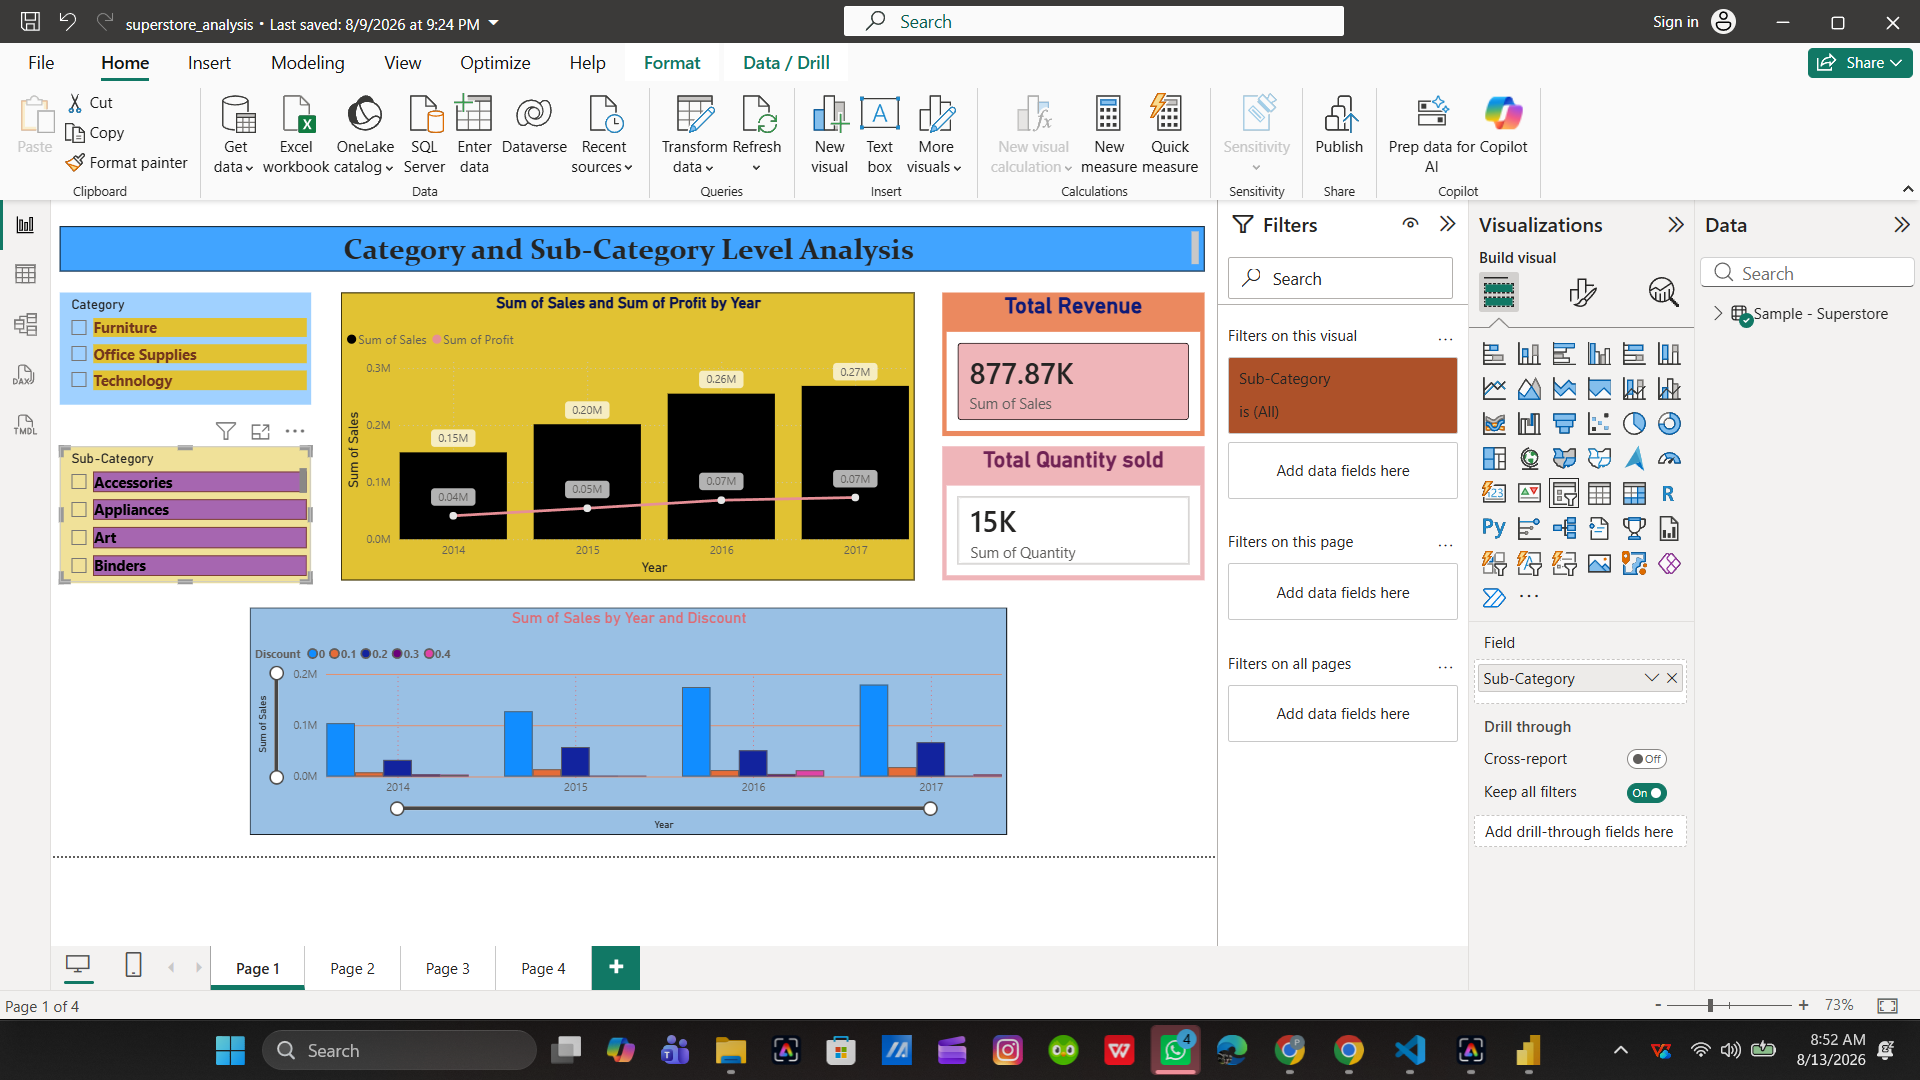

Layout of this report page (visuals, bound fields, positions):
{"tool":"powerbi","page":{"name":"Page 1","canvas":[1280,720],"ordinal":0},"visuals":[{"type":"textbox","box":[9.6,28.8,1257,49.4],"z":0},{"type":"slicer","fields":{"Values":["Sample - Superstore.Category"]},"box":[9.6,101.5,275.8,123.5],"z":1000},{"type":"slicer","fields":{"Values":["Sample - Superstore.Sub-Category"]},"box":[9.6,270.3,276,150],"z":2000},{"type":"cardVisual","title":"Total Revenue","fields":{"Data":["Sum(Sample - Superstore.Sales)"]},"box":[978.4,101.5,288.2,157.8],"z":4000},{"type":"cardVisual","title":"Total Quantity sold","fields":{"Data":["Sum(Sample - Superstore.Quantity)"]},"box":[978.4,270.3,288.2,146.8],"z":5000},{"type":"lineStackedColumnComboChart","fields":{"Y":["Sum(Sample - Superstore.Sales)"],"Category":["Sample - Superstore.Order Date.Variation.Date Hierarchy.Year"],"Y2":["Sum(Sample - Superstore.Profit)"]},"box":[318.4,101.5,629.8,315.6],"z":6000},{"type":"clusteredColumnChart","fields":{"Category":["Sample - Superstore.Order Date.Variation.Date Hierarchy.Year"],"Series":["Sample - Superstore.Discount"],"Y":["Sum(Sample - Superstore.Sales)"]},"box":[218.2,447.3,831.6,249.7],"z":7000}]}

Visuals, with their boxes on the page's 1280x720 design canvas (x1, y1, x2, y2). These are canvas units, not pixel positions in the 1920x1080 screenshot, which may show the page scaled, cropped or inside an application window:
textbox: left=10, top=29, right=1267, bottom=78
slicer - Sample - Superstore.Category: left=10, top=102, right=285, bottom=225
slicer - Sample - Superstore.Sub-Category: left=10, top=270, right=286, bottom=420
"Total Revenue" cardVisual: left=978, top=102, right=1267, bottom=259
"Total Quantity sold" cardVisual: left=978, top=270, right=1267, bottom=417
lineStackedColumnComboChart - Sum(Sample - Superstore.Sales) x Sample - Superstore.Order Date.Variation.Date Hierarchy.Year: left=318, top=102, right=948, bottom=417
clusteredColumnChart - Sample - Superstore.Order Date.Variation.Date Hierarchy.Year x Sample - Superstore.Discount: left=218, top=447, right=1050, bottom=697
